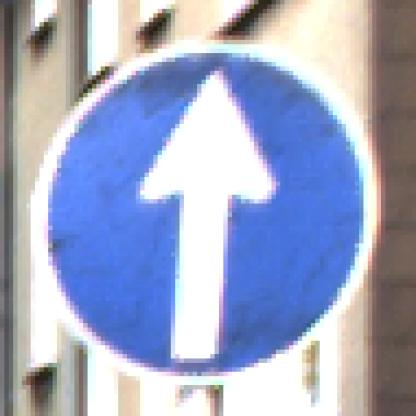AheadOnly: (36, 41, 378, 377)
